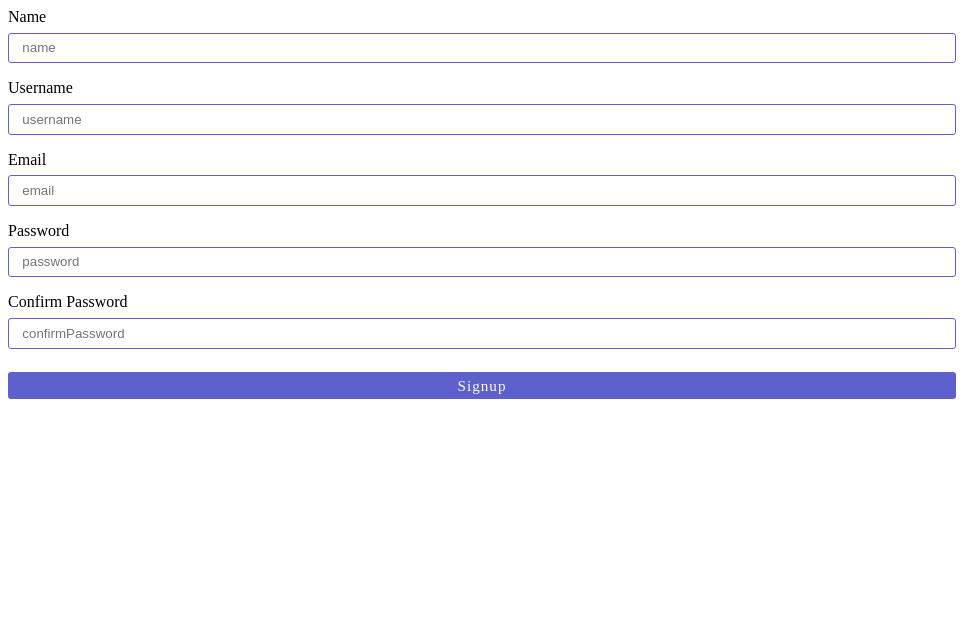
Test: Signup Form › should display min length error when fields are invalid
The width and height of the screenshot is (973, 626).
Type "veryLongNameForTesting" into the field labelled "name" at (482, 48), box [8, 33, 956, 63]
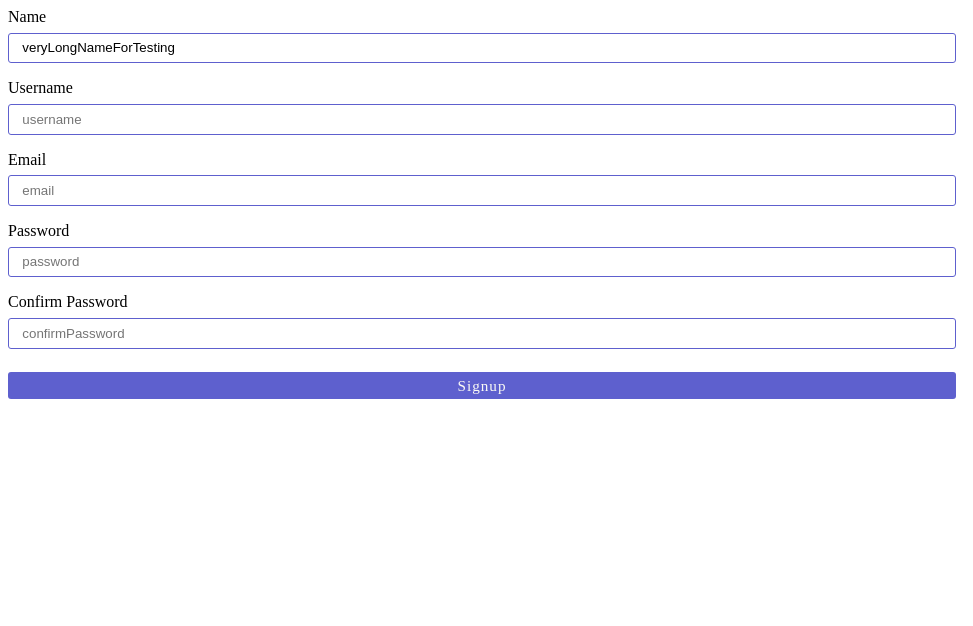
Type "veryLongUsernameForTesting" into the field labelled "username" at (482, 119), box [8, 104, 956, 135]
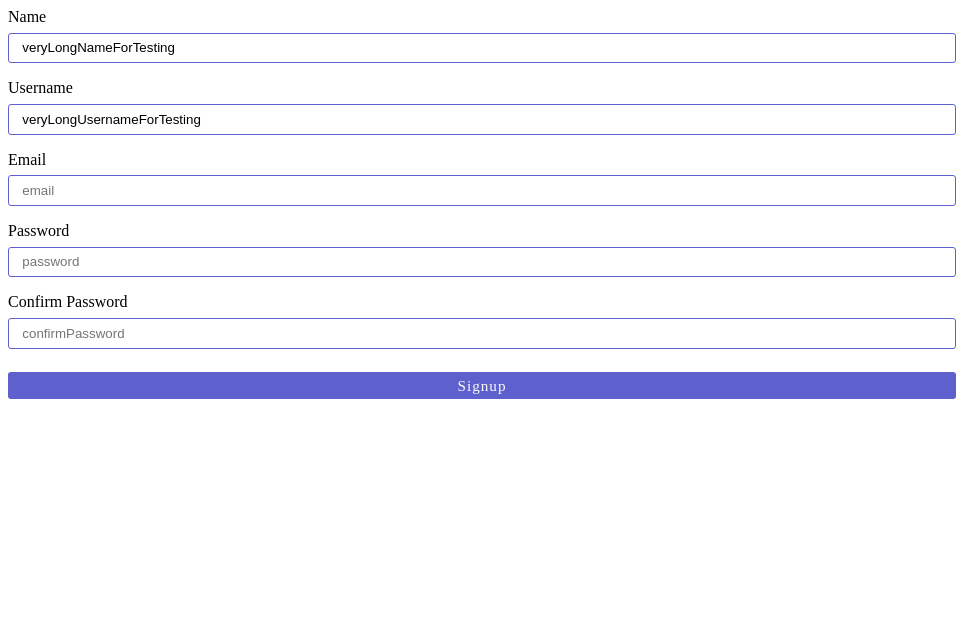
Type "t@t.c" into the field labelled "email" at (482, 191), box [8, 175, 956, 206]
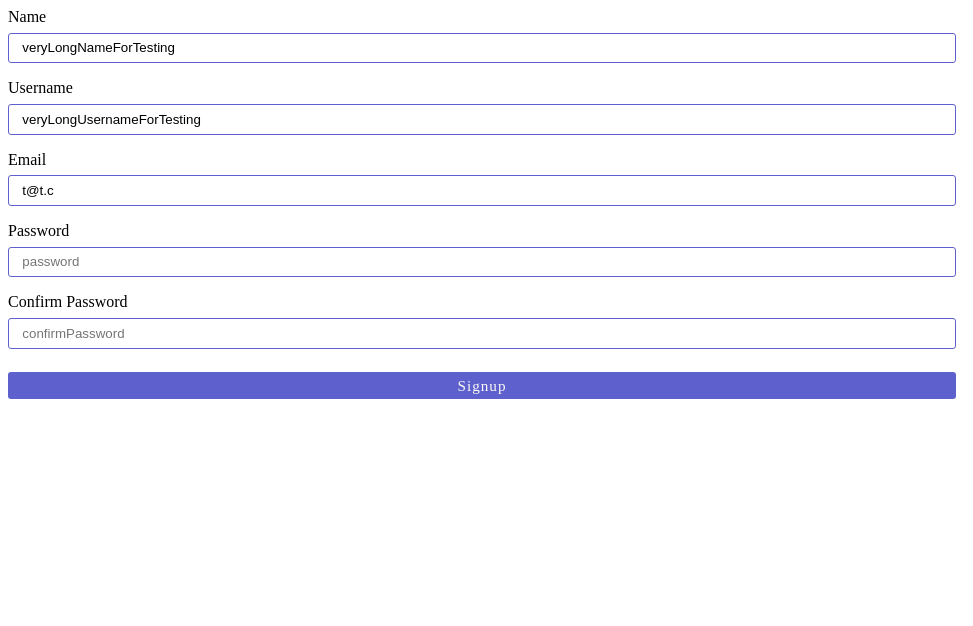
Type "pass" into the password field labelled "password" at (482, 262), box [8, 247, 956, 277]
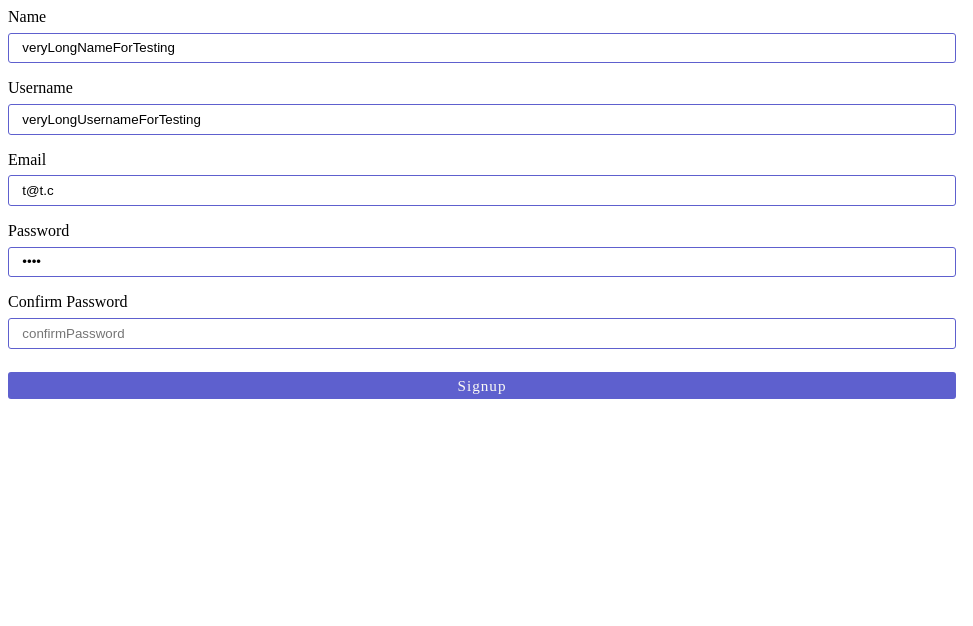
Type "pass" into the password field labelled "confirmPassword" at (482, 333), box [8, 318, 956, 349]
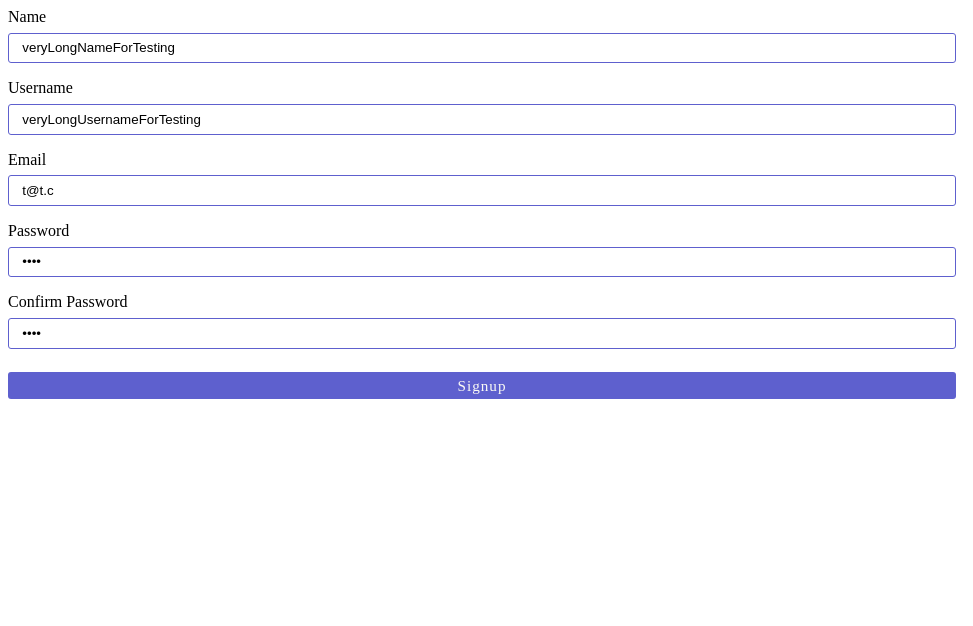
Submit the form from the button with test id "testSignup", box [8, 372, 956, 399]
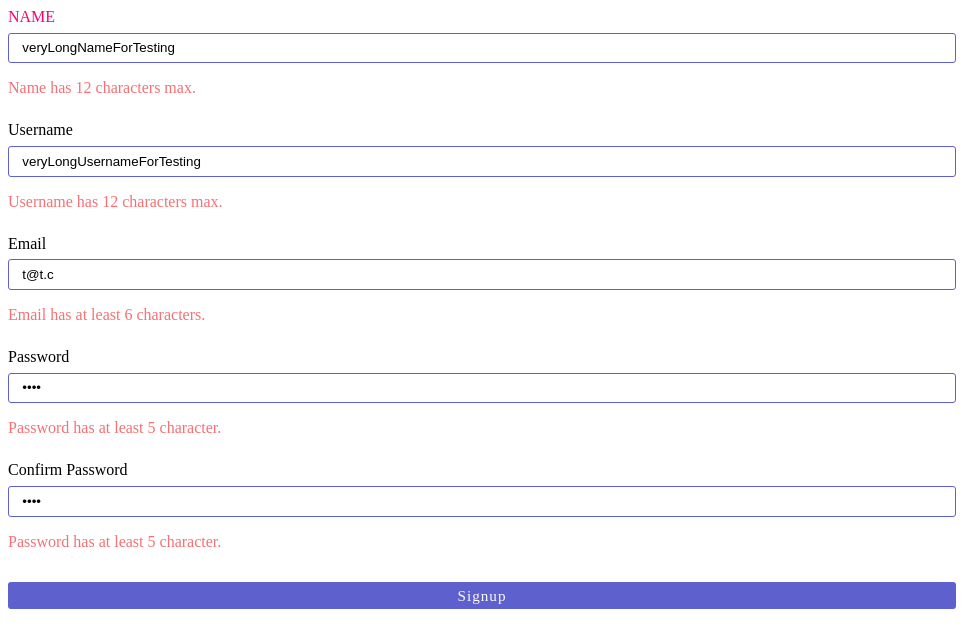
Result: the text "Name has 12 characters max." is shown at [8, 79, 196, 96]
Result: the text "Username has 12 characters max." is shown at [8, 193, 223, 210]
Result: the text "Email has at least 6 characters." is shown at [8, 306, 205, 323]
